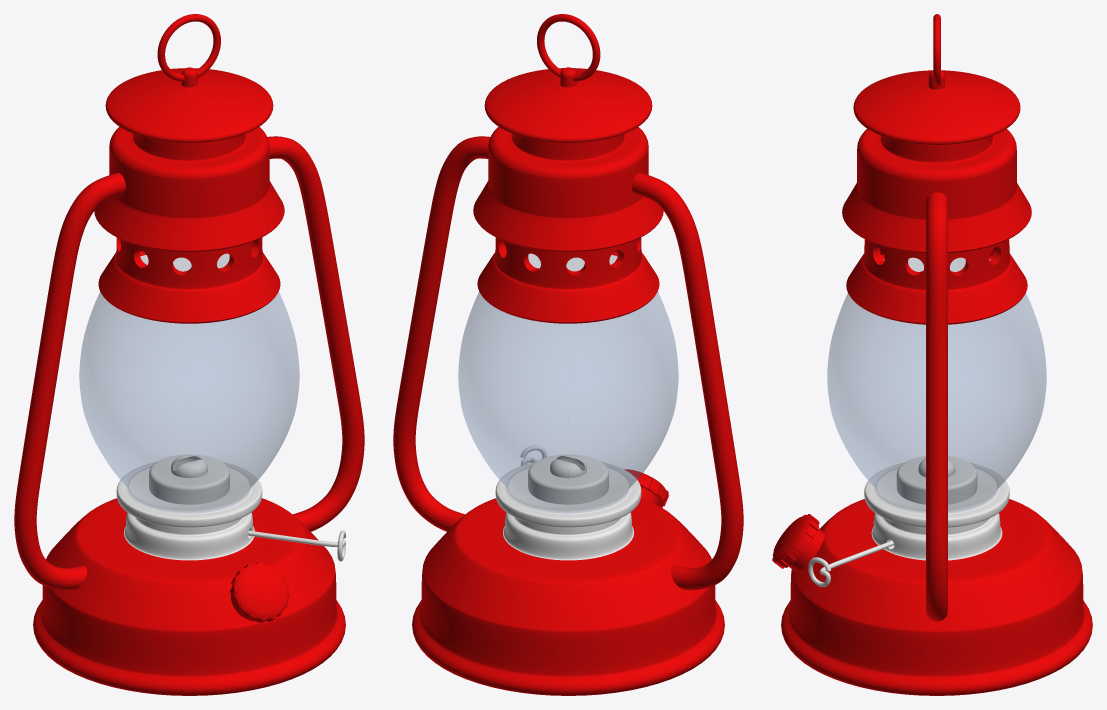
3 views of the same model, side by side, from view 1: azimuth 30°, elevation 25°; view 2: azimuth 150°, elevation 25°; view 3: azimuth 270°, elevation 25° (orthographic).
Parts seen in each view (by area): view 1: NurbsPath.003; view 2: NurbsPath.003; view 3: NurbsPath.003.
Boxes of the visible parts, x1=… form: NurbsPath.003: x1=14, y1=14, x2=364, y2=695; NurbsPath.003: x1=393, y1=14, x2=743, y2=695; NurbsPath.003: x1=772, y1=14, x2=1092, y2=695.
Size of the model in its own units: 0.4804 by 0.8166 by 0.3856.
